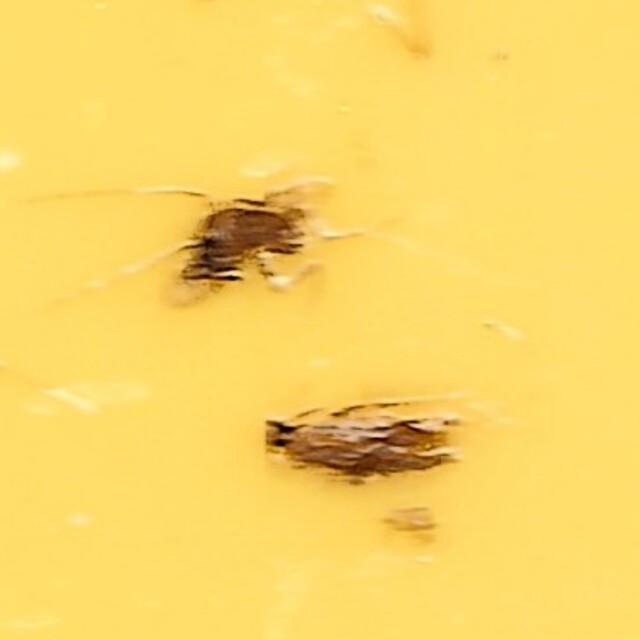Nematocera: (173, 153, 375, 307)
Trichoptera: (259, 402, 467, 487)
